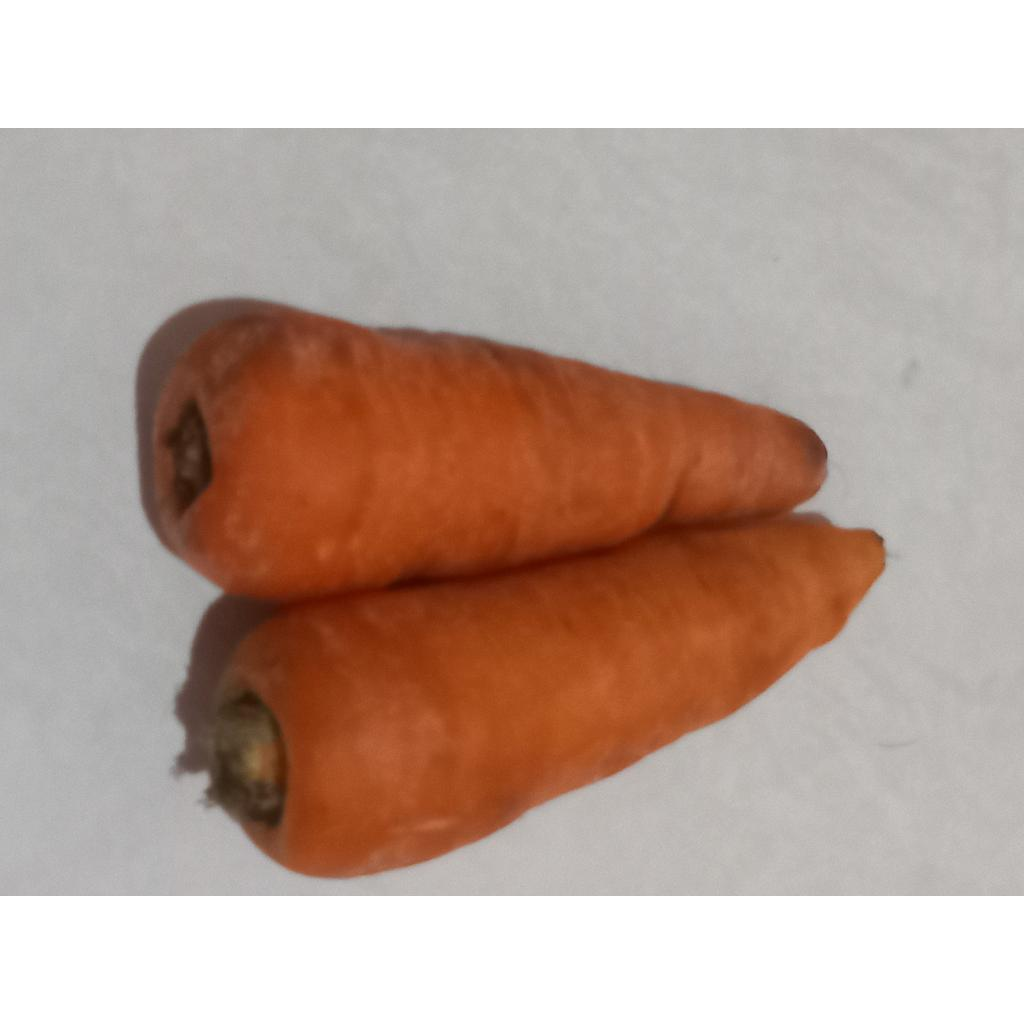carrot: (212, 516, 884, 876), (154, 302, 826, 600)
